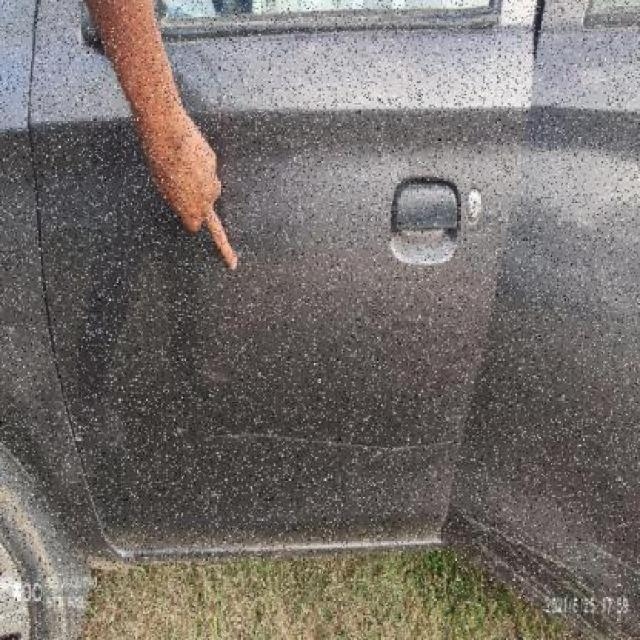doorouter-dent: (79, 48, 467, 554)
